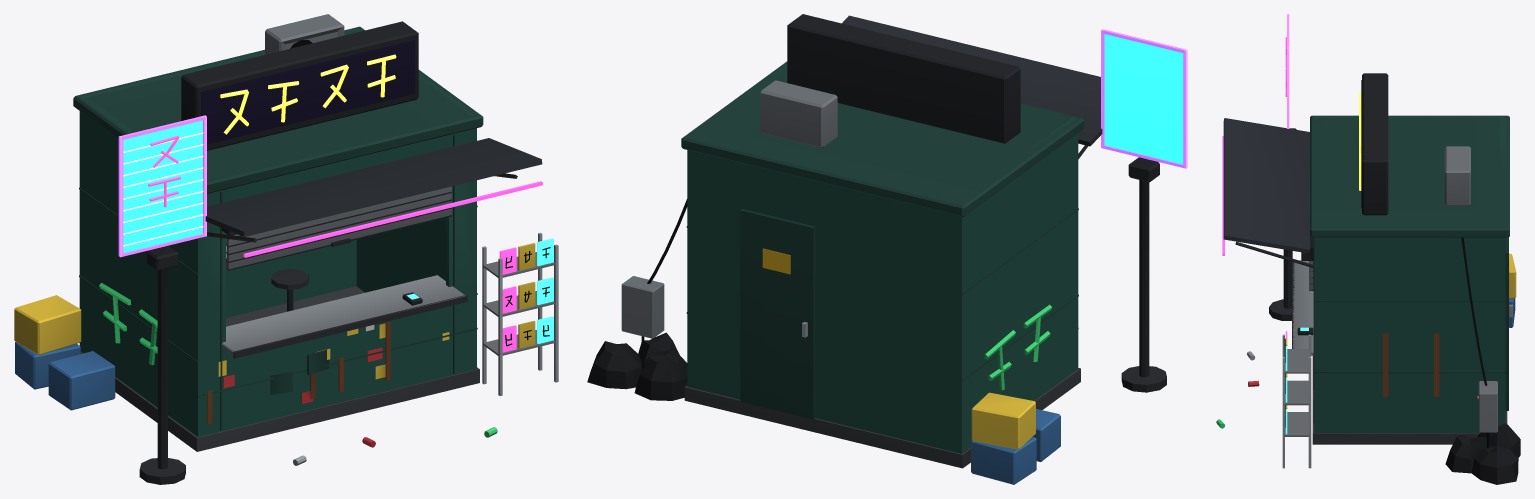
Rendered from cp_kiosk.glb.
The picture shows the model from 3 angles, left to right: view 1: azimuth 30°, elevation 25°; view 2: azimuth 150°, elevation 25°; view 3: azimuth 270°, elevation 25°; orthographic projection. The views are drawn at different scales.
Parts seen in each view (by area): view 1: cp_kiosk, part_holo, part_awning, part_junk, part_rack, part_shutter, part_stool; view 2: cp_kiosk, part_door.001, part_holo, part_junk, part_awning, part_power; view 3: cp_kiosk, part_awning, part_junk, part_rack, part_power, part_holo, part_door.001.
Boxes of the visible parts, bbox=[...] form: cp_kiosk: bbox=[73, 14, 483, 451]; part_holo: bbox=[118, 115, 206, 484]; part_awning: bbox=[205, 138, 542, 257]; part_junk: bbox=[14, 295, 115, 410]; part_rack: bbox=[482, 232, 558, 395]; part_shutter: bbox=[226, 186, 451, 270]; part_stool: bbox=[271, 269, 308, 311]; cp_kiosk: bbox=[681, 14, 1084, 468]; part_door.001: bbox=[740, 209, 815, 419]; part_holo: bbox=[1101, 29, 1187, 392]; part_junk: bbox=[587, 332, 1060, 484]; part_awning: bbox=[842, 15, 1102, 159]; part_power: bbox=[621, 199, 687, 359]; cp_kiosk: bbox=[1292, 73, 1509, 444]; part_awning: bbox=[1222, 118, 1314, 267]; part_junk: bbox=[1445, 253, 1520, 484]; part_rack: bbox=[1282, 331, 1311, 468]; part_power: bbox=[1461, 237, 1497, 447]; part_holo: bbox=[1269, 14, 1296, 320]; part_door.001: bbox=[1505, 237, 1512, 410].
Size of the model in its own units: 5.13 by 3.58 by 3.5.
